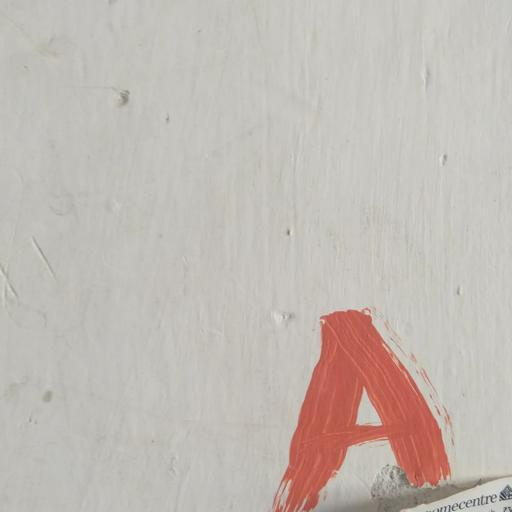stain: (259, 281, 512, 512)
